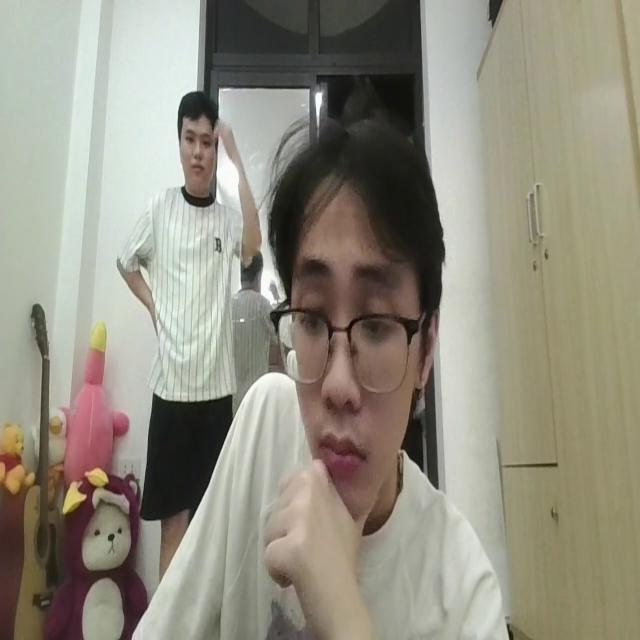extra_person: (117, 83, 260, 454)
student: (126, 117, 502, 640)
